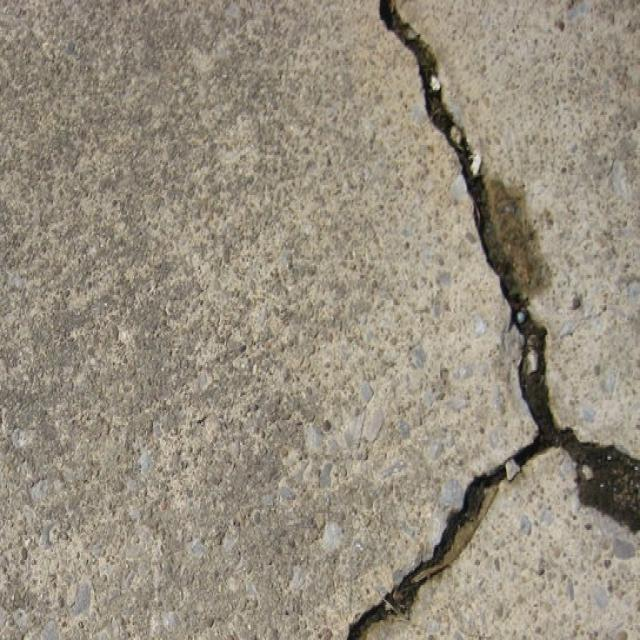crack: (340, 0, 637, 638)
